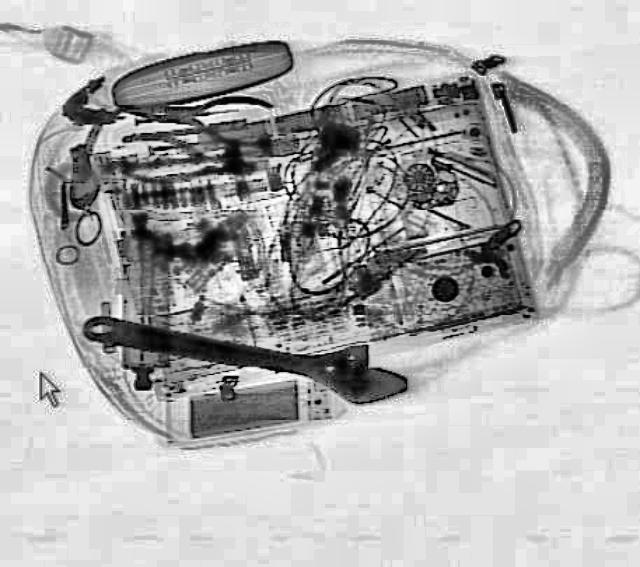Pliers: (115, 80, 275, 150), (112, 126, 258, 194)
Wrench: (72, 295, 414, 411)
